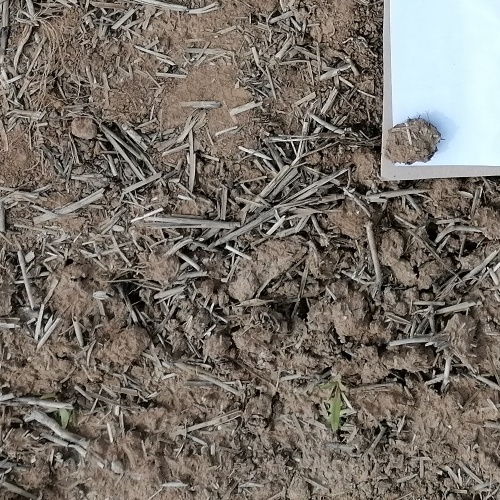beet: (323, 379, 345, 434)
